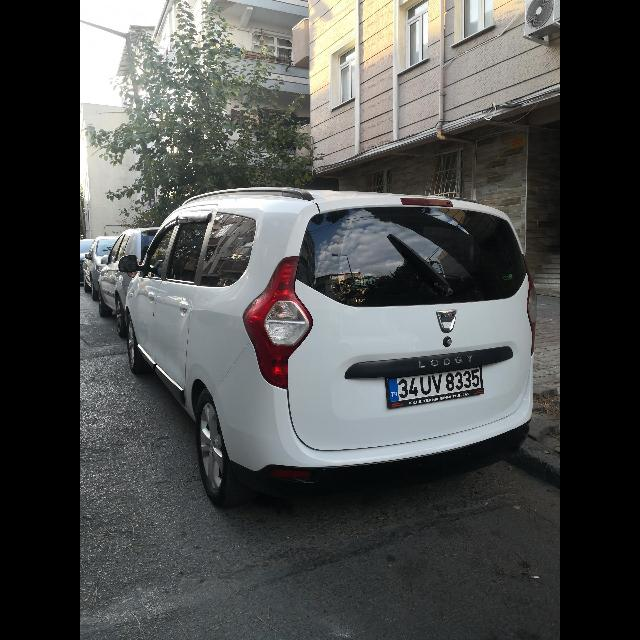Plaka: (391, 368, 482, 402)
